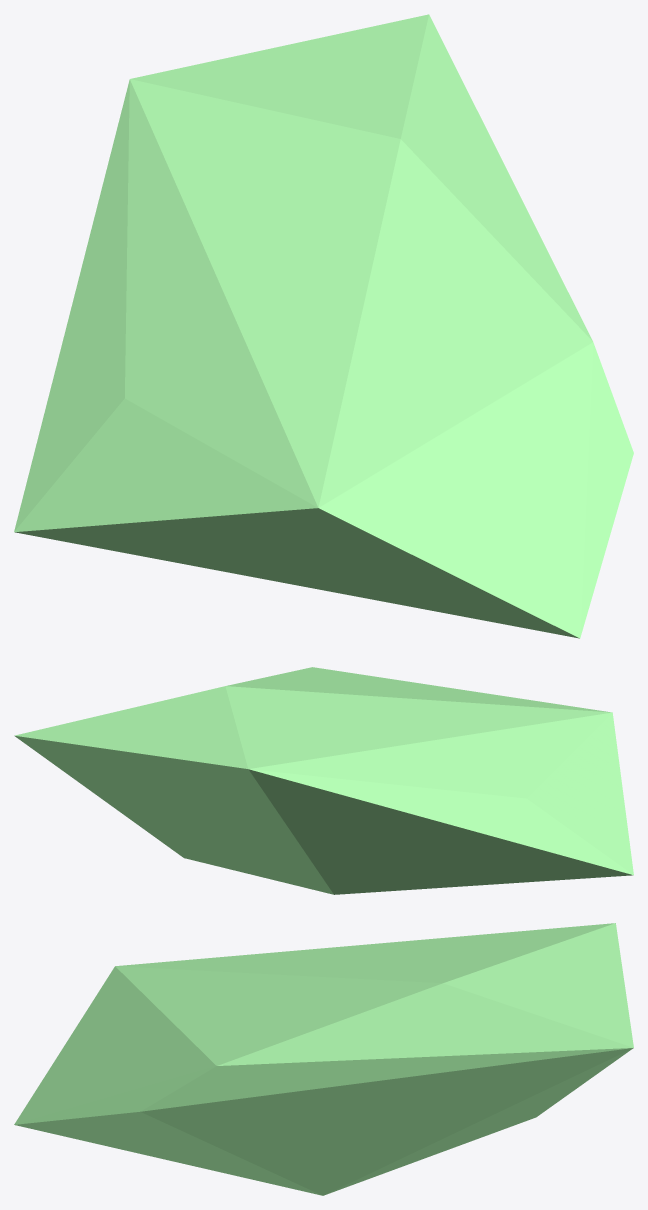
The model's file is UMIRobot_UMIRobot_link_4_convex_coll_2.dae.
3 renders of one model, top to bottom at view 1: azimuth 30°, elevation 25°; view 2: azimuth 150°, elevation 25°; view 3: azimuth 270°, elevation 25°, orthographic. The views are drawn at different scales.
Parts seen in each view (by area): view 1: node; view 2: node; view 3: node.
Boxes of the visible parts, <box> form: node: <box>14,14,633,638</box>; node: <box>14,667,633,894</box>; node: <box>14,923,633,1195</box>.
Size of the model in its own units: 0.0123 by 0.00518 by 0.0144.
